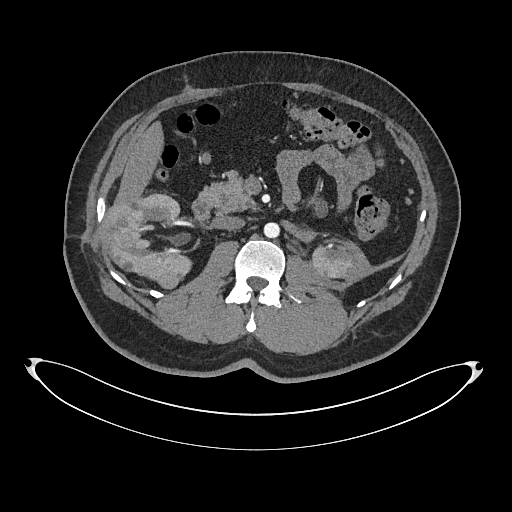Lesion: (153, 272, 182, 292)
